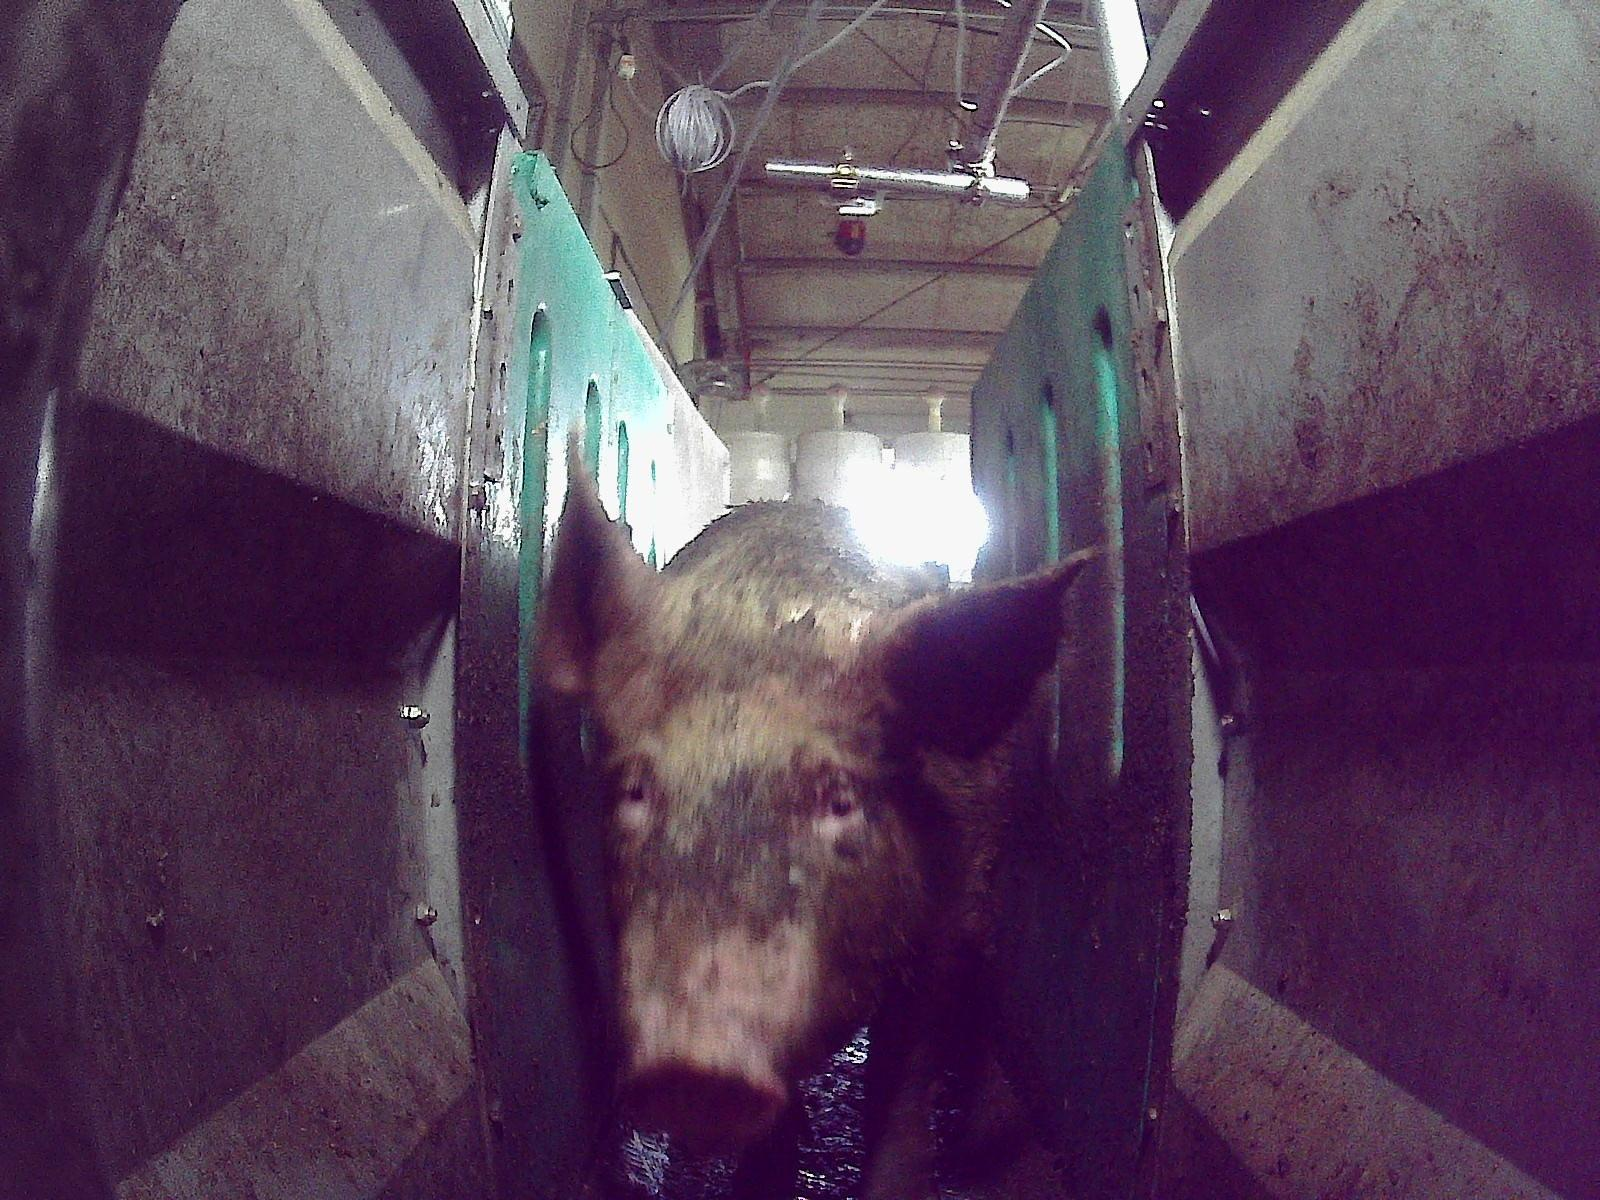Face: (600, 651, 917, 1145)
